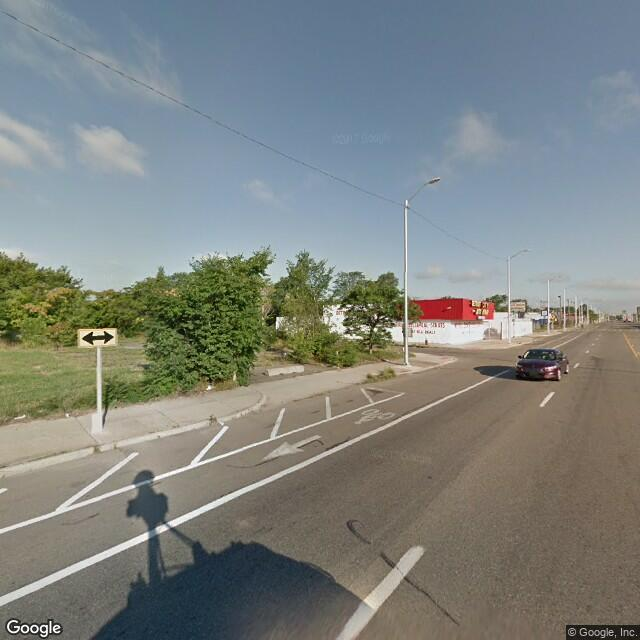litter: (13, 412, 27, 421), (65, 410, 72, 417), (206, 385, 212, 390), (220, 421, 223, 425)
